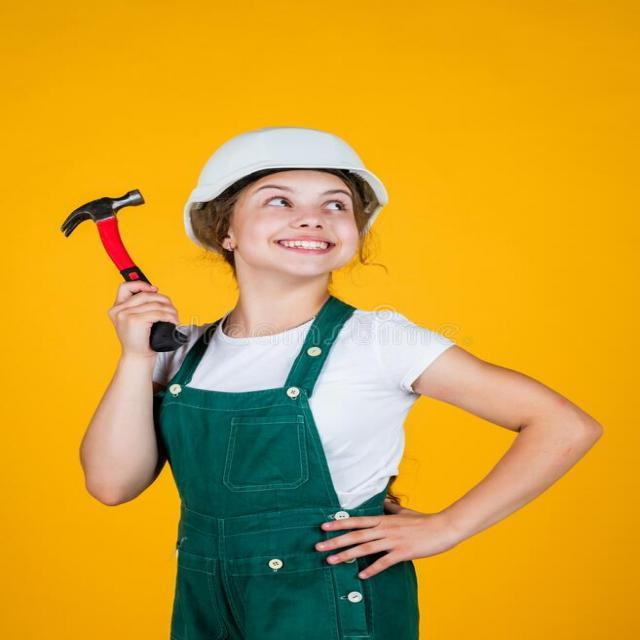hammer: (35, 176, 196, 356)
